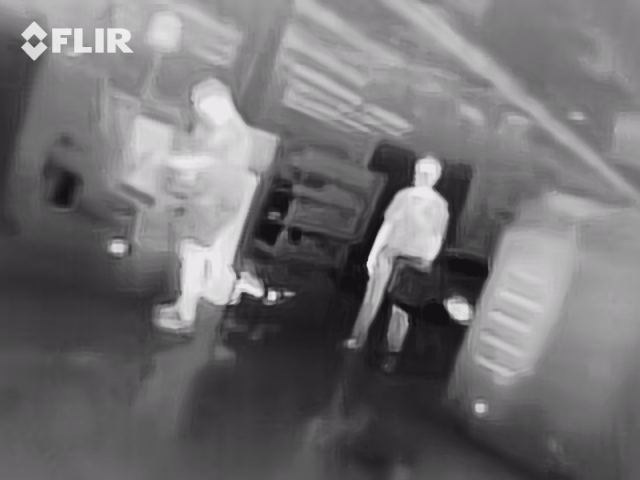head: (189, 78, 231, 126), (413, 154, 441, 189)
